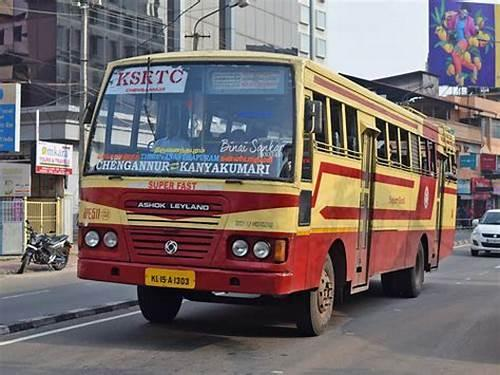Bus: (76, 50, 455, 336)
